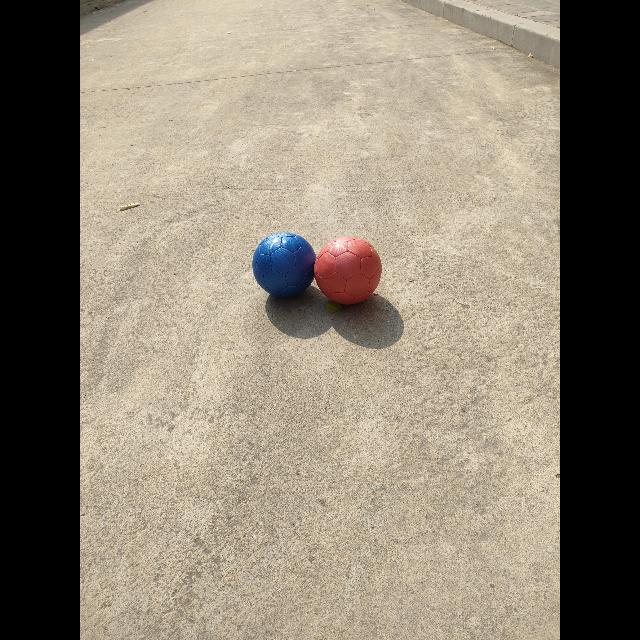B: (251, 231, 316, 298)
R: (315, 236, 381, 305)
